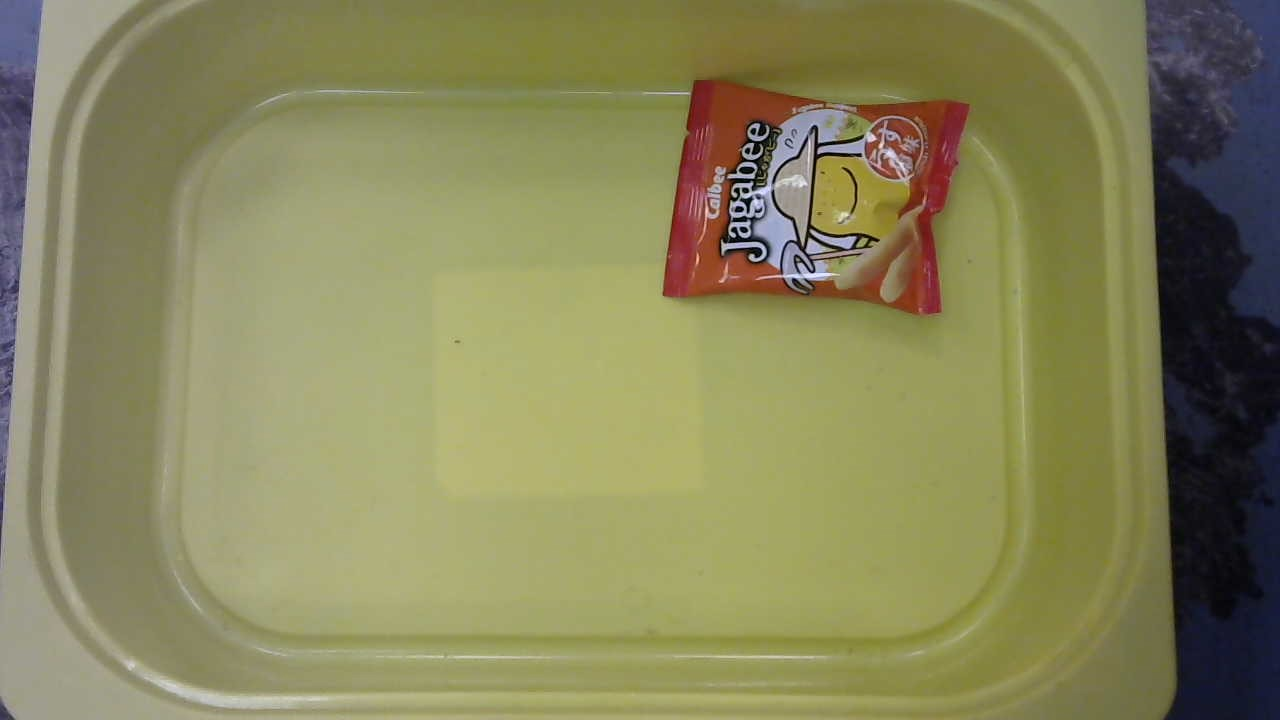JagabeeFarmer: (646, 72, 976, 326)
